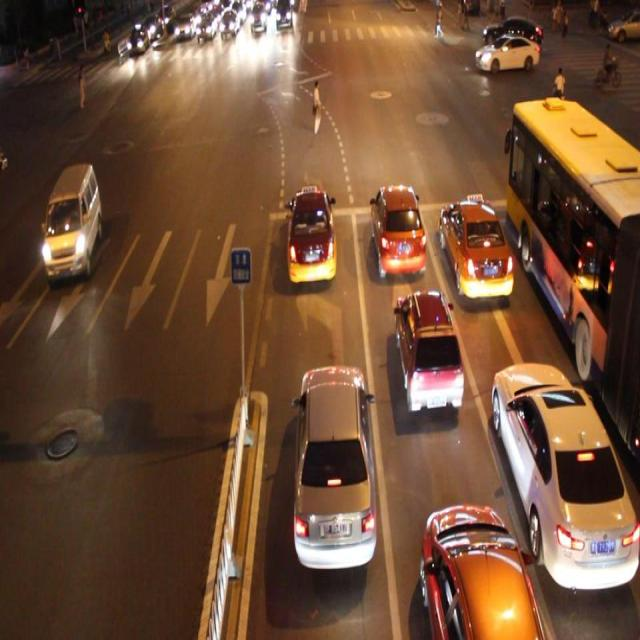car: (490, 359, 640, 594), (293, 363, 376, 573), (420, 499, 542, 640), (393, 289, 462, 415), (438, 198, 512, 300), (42, 165, 101, 284), (368, 182, 426, 277), (284, 186, 336, 285), (474, 34, 538, 74)
van: (503, 98, 640, 450)
